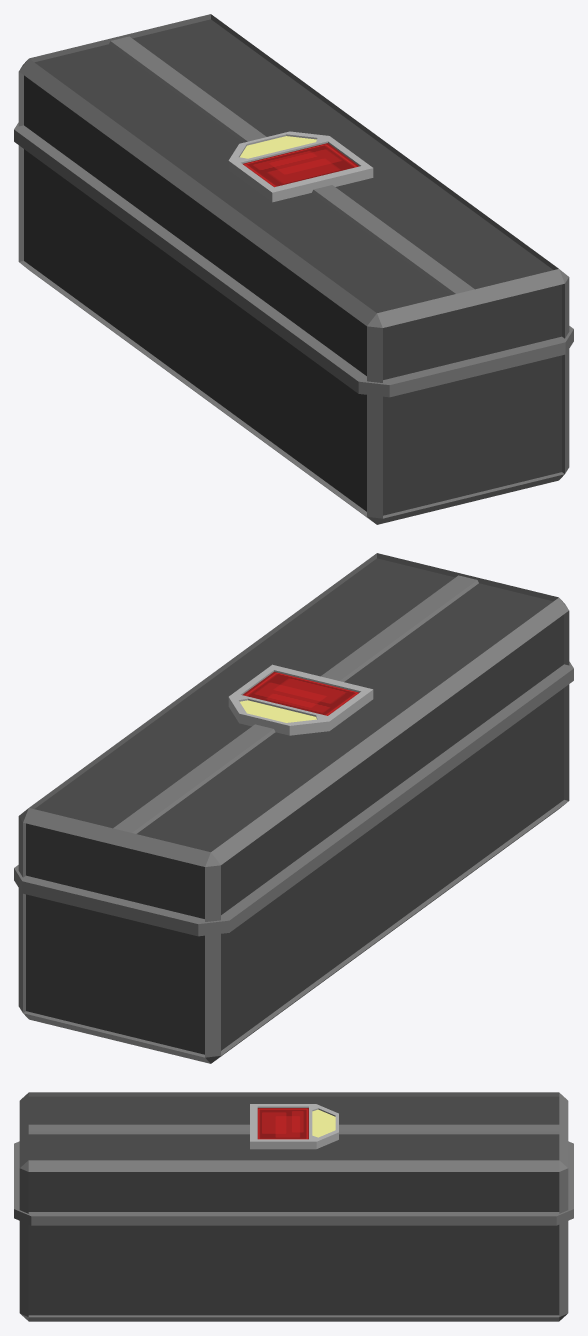
File: Locked_Crate_1x3.fbx
3 renders of one model, top to bottom at view 1: azimuth 30°, elevation 25°; view 2: azimuth 150°, elevation 25°; view 3: azimuth 270°, elevation 25°, orthographic. The views are drawn at different scales.
Parts seen in each view (by area): view 1: Locked_Crate_1x3; view 2: Locked_Crate_1x3; view 3: Locked_Crate_1x3.
Part boxes in pixels (x1,y1,x2,y2): Locked_Crate_1x3: (14,14,573,524); Locked_Crate_1x3: (14,553,573,1063); Locked_Crate_1x3: (14,1092,573,1321).
Size of the model in its own units: 101 by 97 by 299.
